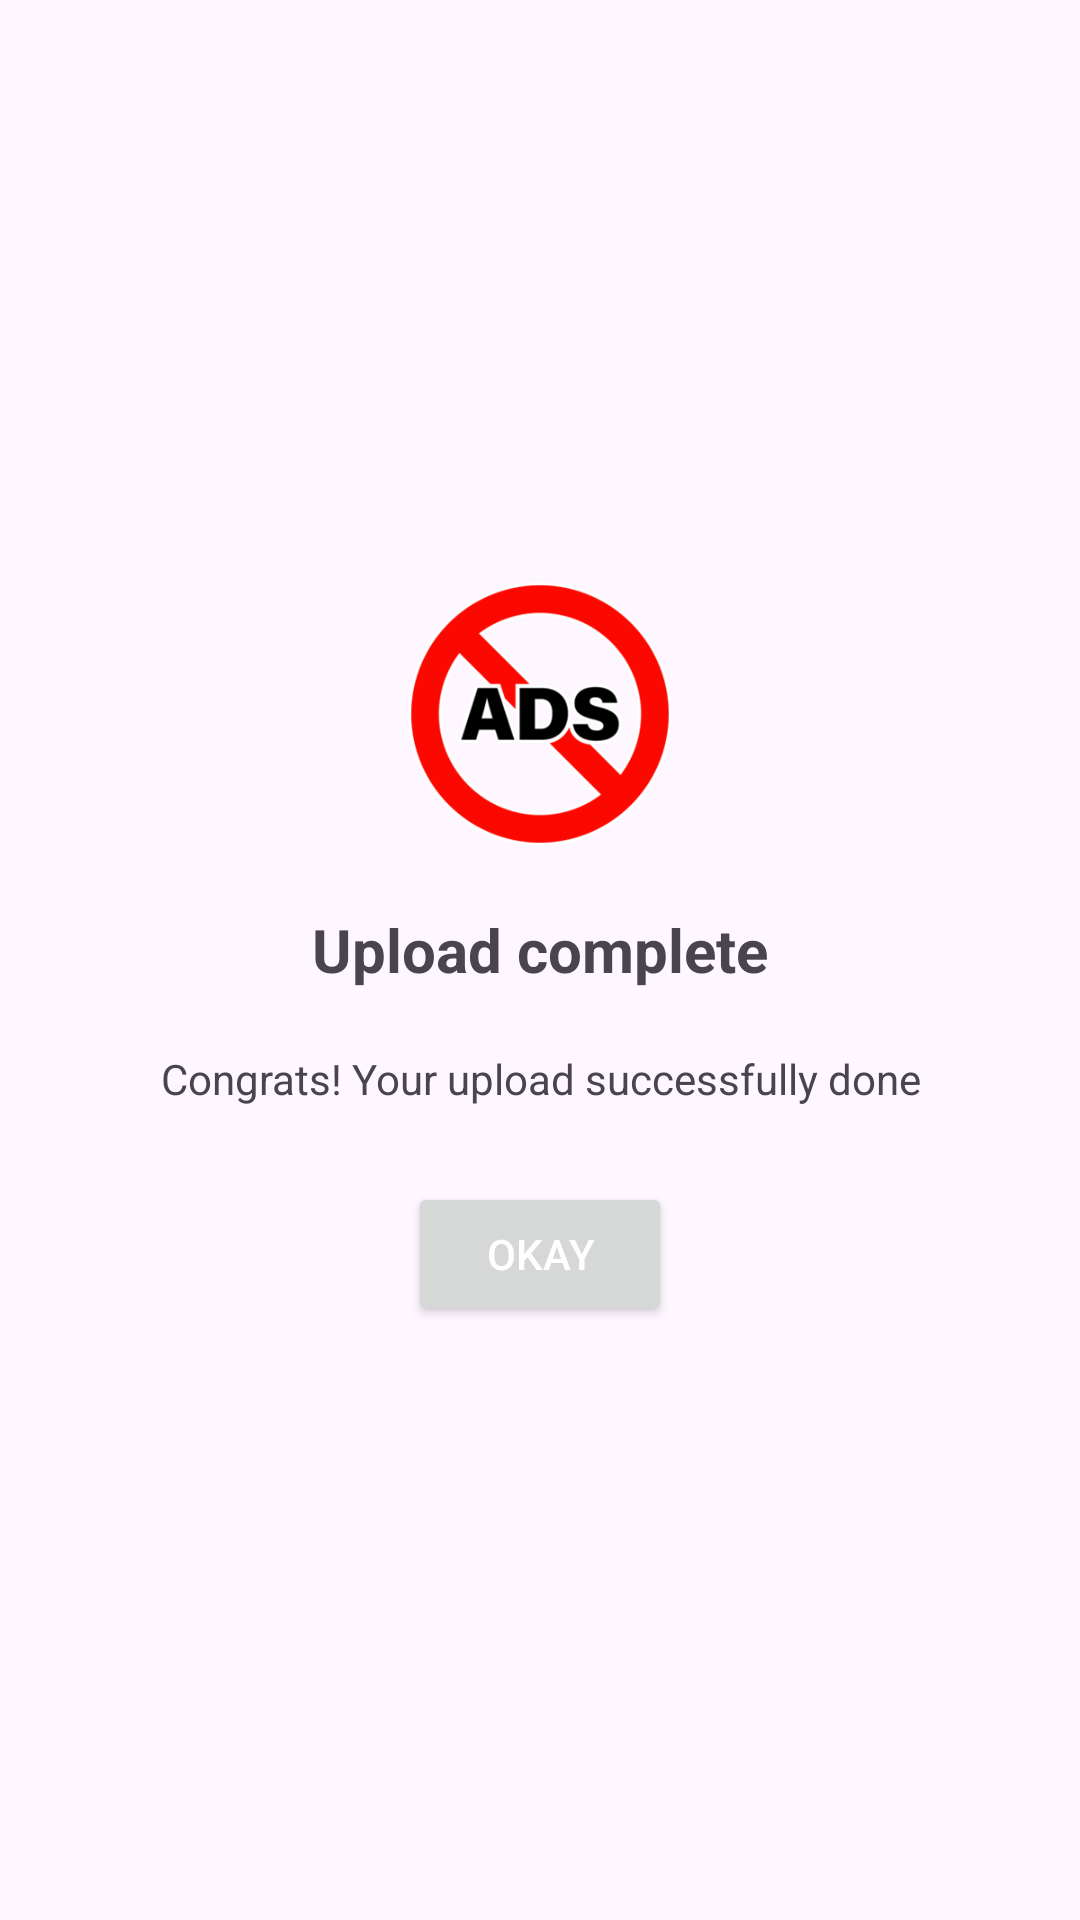

Screen size 1080*1920. Icon name, then its center in pixels as (x,y):
ad blocker: (540,714)
